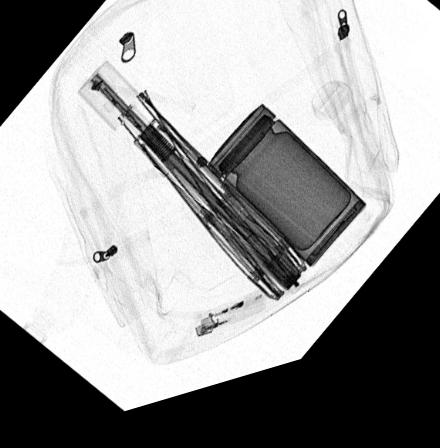Lighter: (194, 303, 265, 349)
